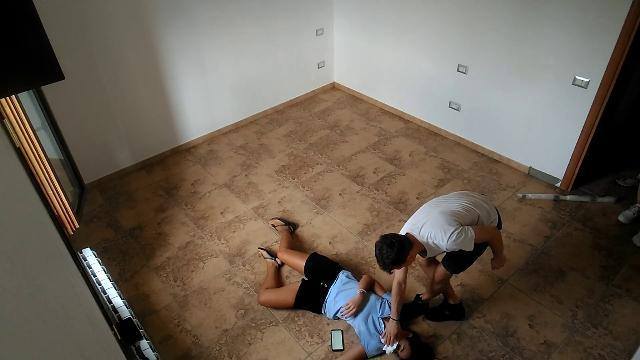violence: (252, 193, 516, 360)
